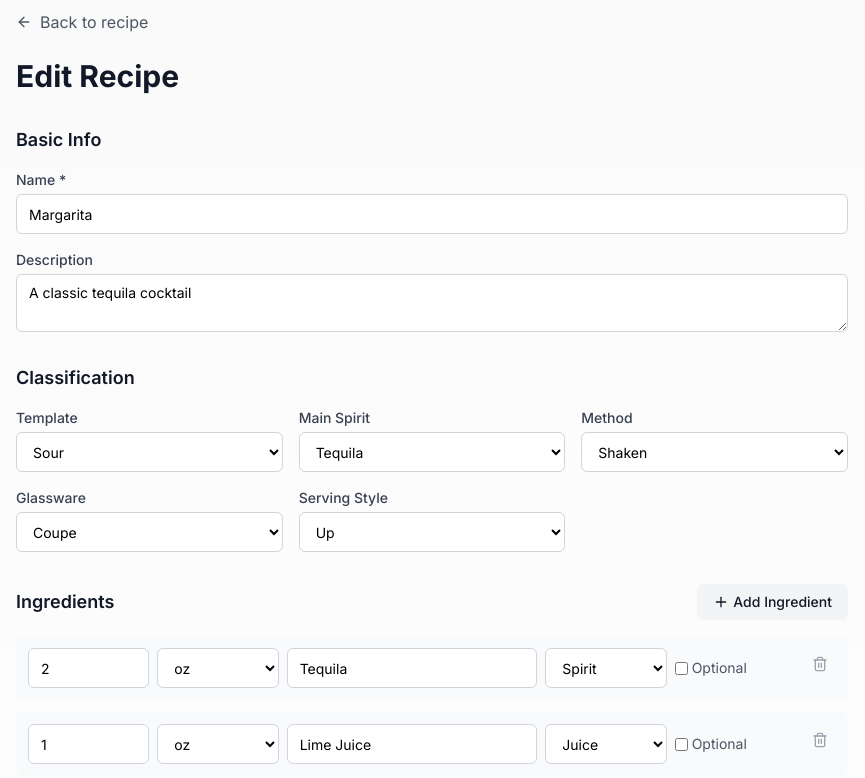
Test: EditRecipePage › Ingredient Management › removes ingredient when clicking Remove
# Find and click the first remove button (they have Trash2 icon)
Click the 2nd button. click: (820, 664)
box: [804, 648, 836, 680]
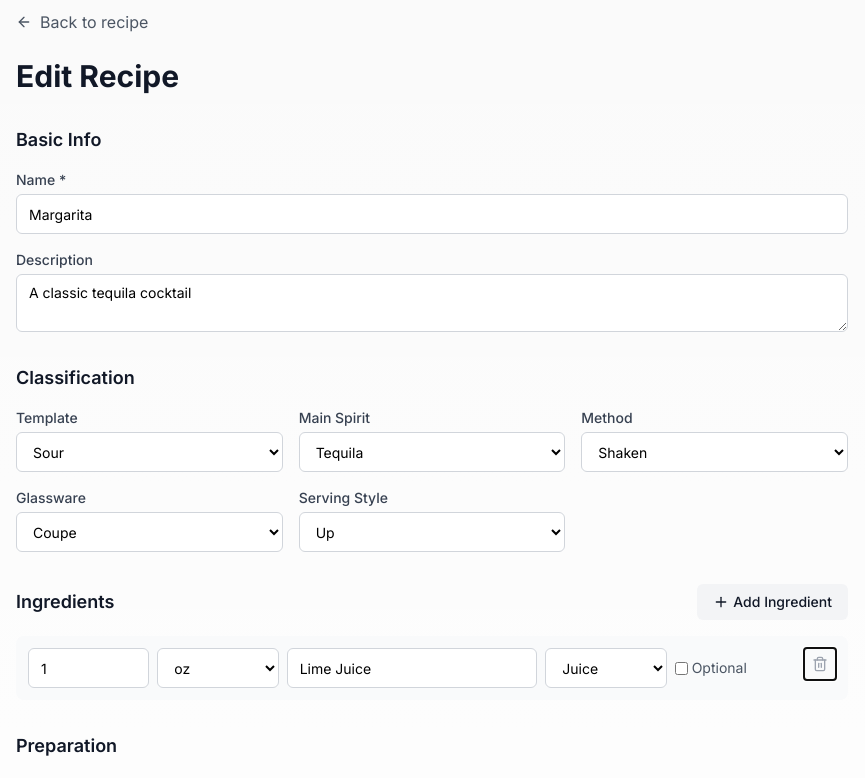
Check: the number of fields with placeholder "Ingredient name" is 1, box [287, 648, 537, 688]
